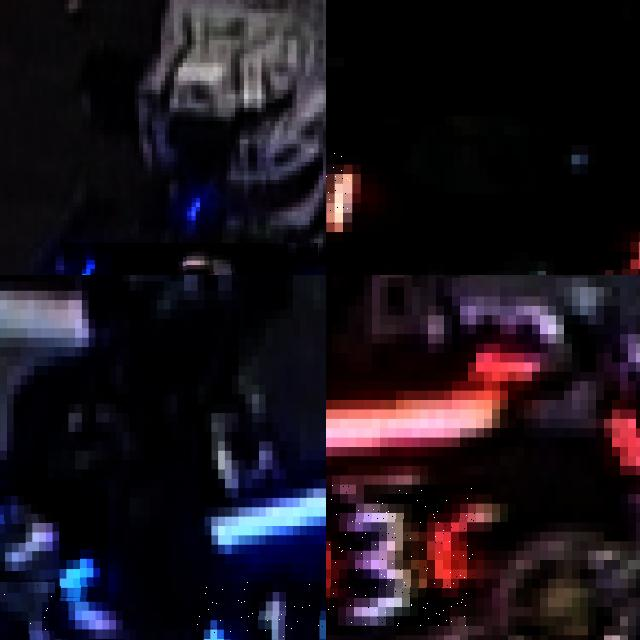B1: (0, 488, 109, 601), (190, 582, 326, 640)
B3: (64, 243, 318, 275)
R3: (326, 485, 476, 626)
Rs: (326, 135, 352, 241)
